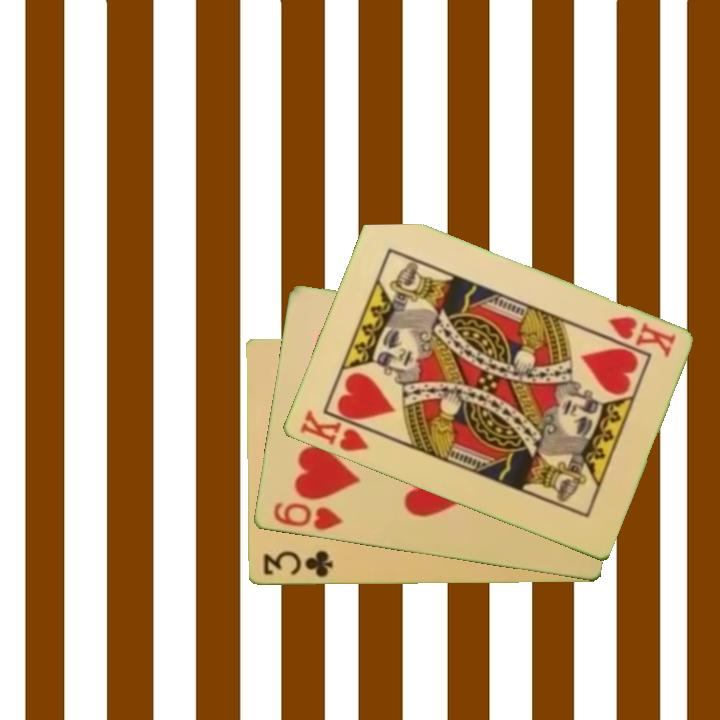3c: (259, 548, 335, 581)
6h: (269, 499, 345, 534)
Kh: (296, 406, 380, 455), (603, 313, 679, 361)
